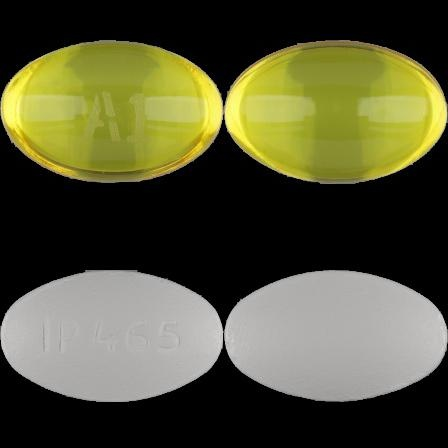67296-0567: (0, 0, 224, 224)
